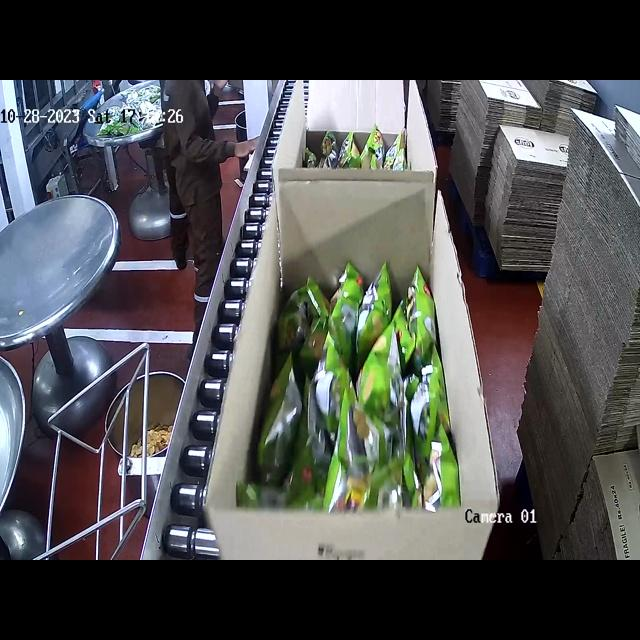yogurt: (243, 259, 461, 513), (315, 131, 411, 168)
